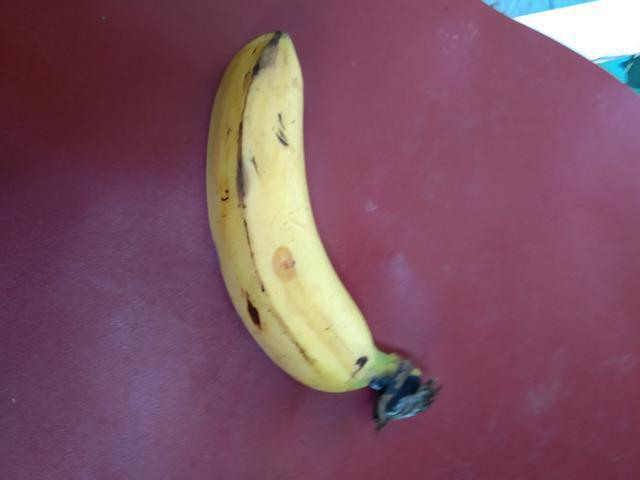ripe: (202, 16, 401, 393)
